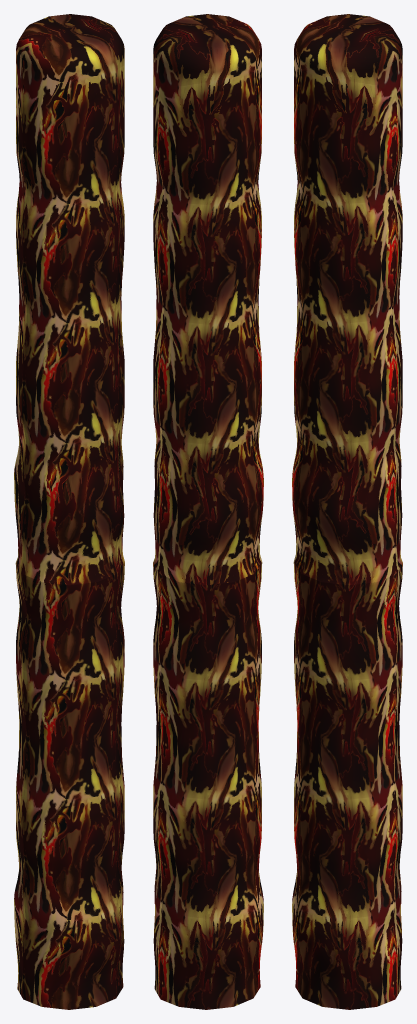
File: SuperLavaFall.fbx
3 views of the same model, side by side, from view 1: azimuth 30°, elevation 25°; view 2: azimuth 210°, elevation 25°; view 3: azimuth 330°, elevation 25° (orthographic).
Parts seen in each view (by area): view 1: polySurface579; view 2: polySurface579; view 3: polySurface579.
Boxes of the visible parts, x1,y1,x2,y2 form: polySurface579: (14,14,124,1009); polySurface579: (153,14,263,1009); polySurface579: (292,14,402,1009).
Bounding box in the file's own units: 29.67 × 284 × 29.4.
1 material, 1 textured.
